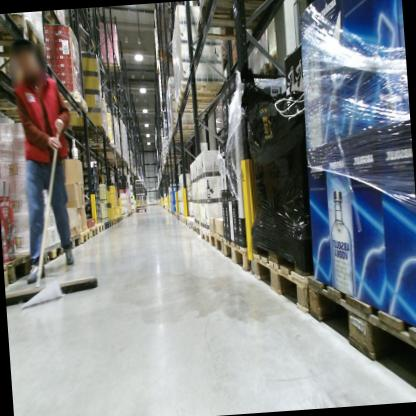pallet: (304, 267, 416, 397), (249, 244, 319, 317), (195, 0, 266, 48), (0, 11, 51, 62), (4, 246, 48, 285), (176, 77, 229, 105), (222, 233, 252, 273), (174, 92, 215, 118), (56, 87, 90, 116), (39, 238, 68, 263), (71, 123, 107, 139), (208, 228, 225, 257), (81, 132, 113, 145), (62, 233, 82, 252), (99, 60, 122, 76), (199, 225, 211, 246), (80, 227, 91, 243), (4, 263, 11, 288), (88, 225, 99, 239), (190, 216, 197, 234), (96, 222, 105, 233), (195, 220, 201, 236), (106, 219, 114, 229), (103, 221, 110, 231), (111, 218, 118, 226), (116, 216, 120, 224), (119, 215, 123, 221)
